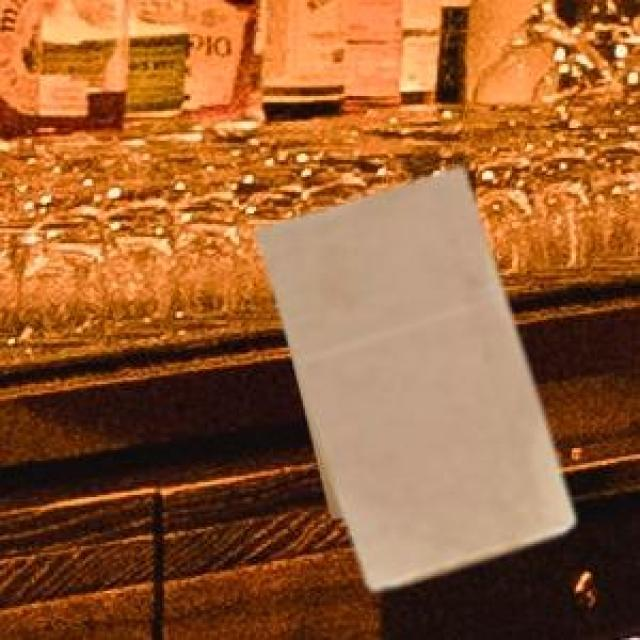Paper_Bag: (252, 165, 570, 586), (292, 358, 342, 516)
